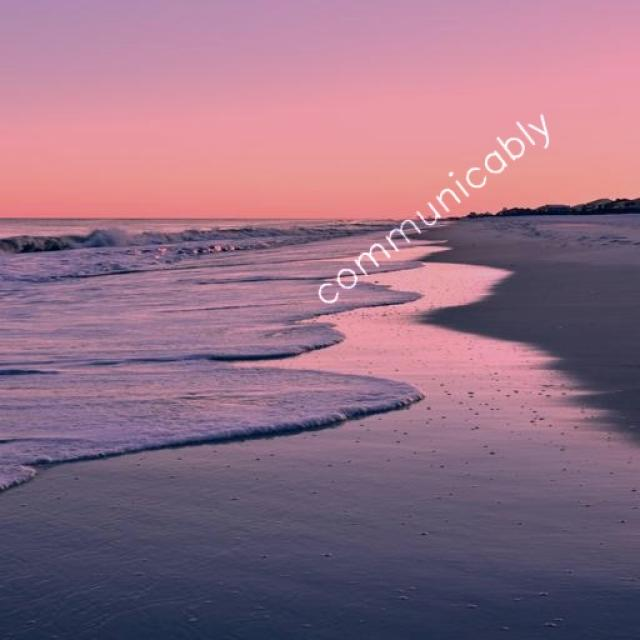watermark: (314, 97, 554, 315)
